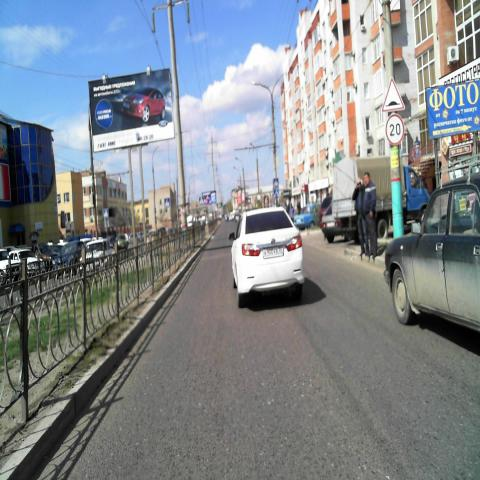1_17: (382, 76, 406, 112)
